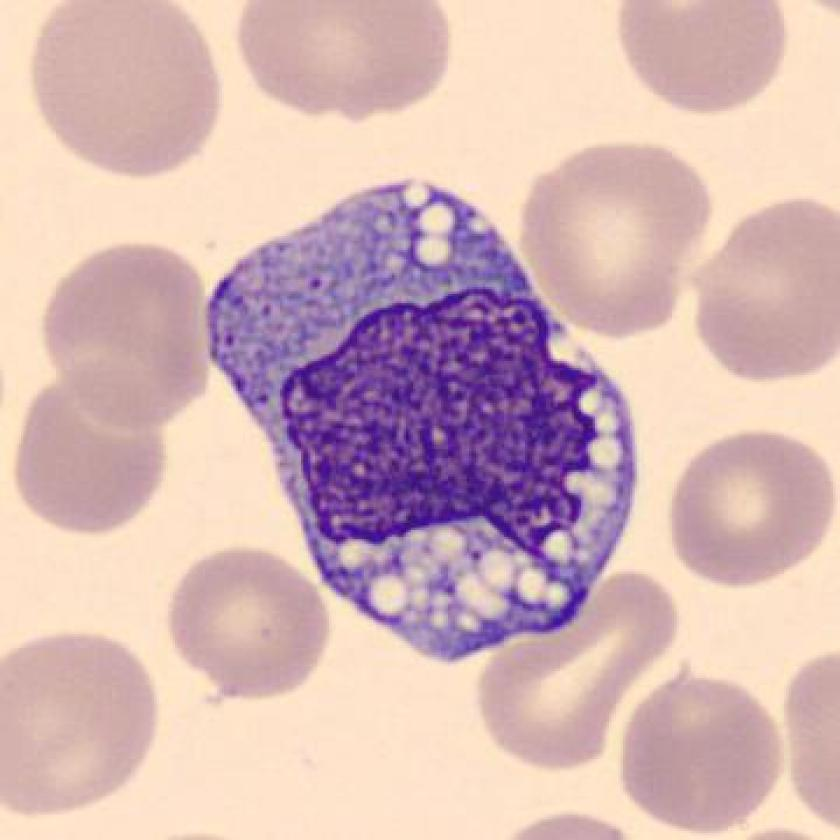monocyte: (185, 165, 657, 684)
